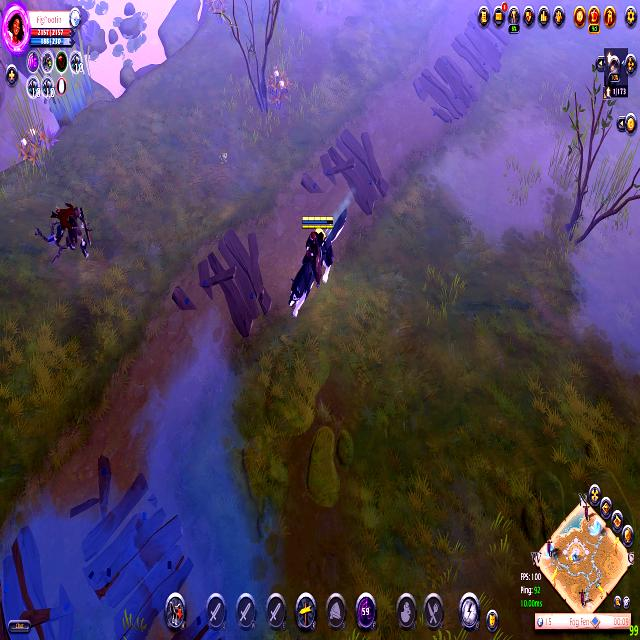hide: (15, 120, 52, 172), (262, 60, 294, 114)
ore: (47, 201, 97, 270)
red: (285, 193, 352, 331)
